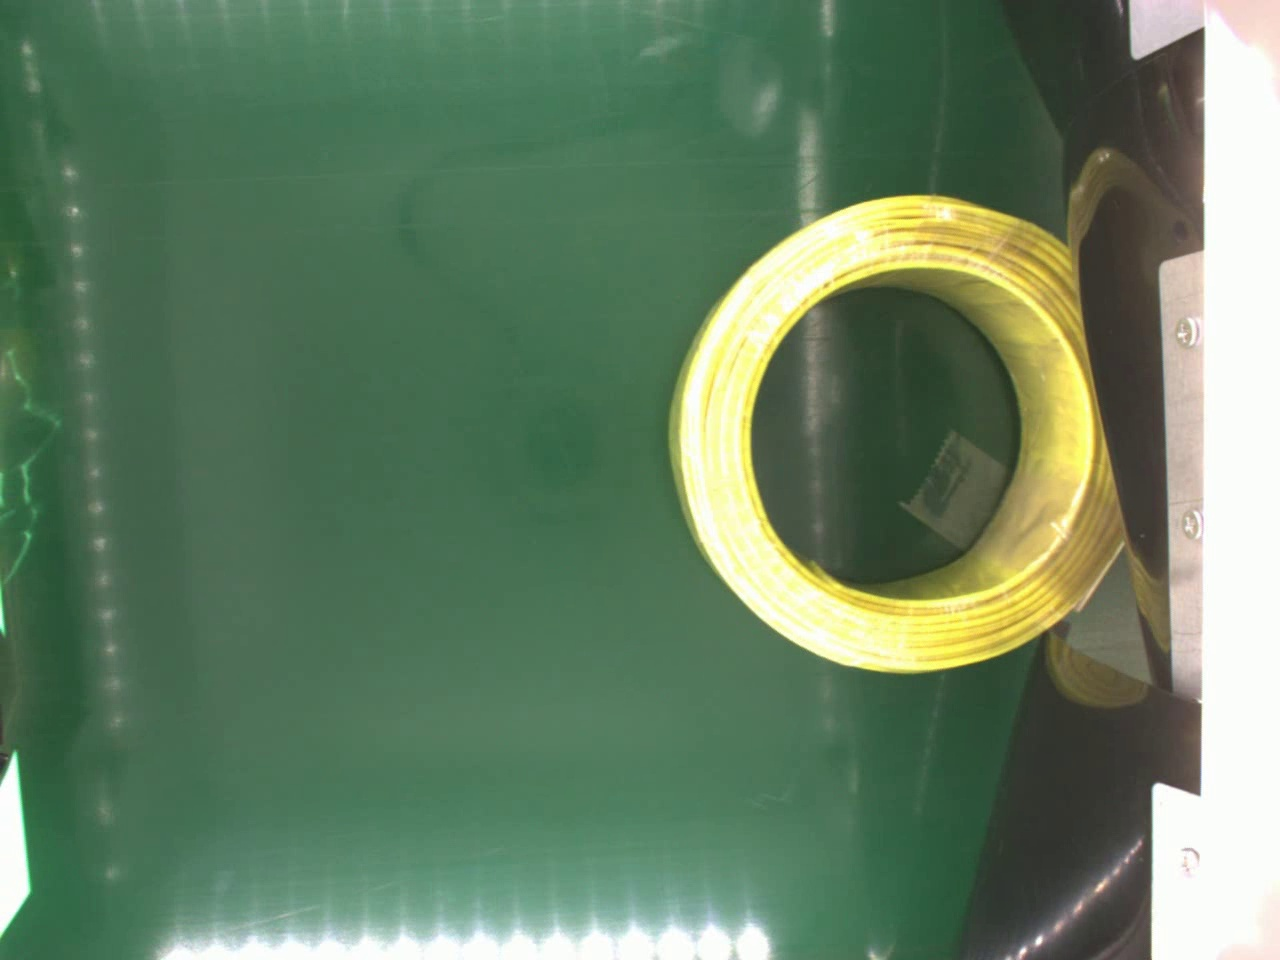yellow: (670, 191, 1120, 673)
